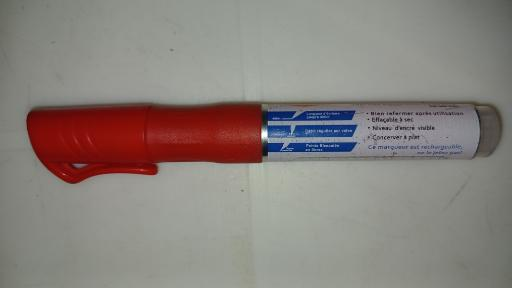Whiteboard marker: (25, 104, 503, 186)
